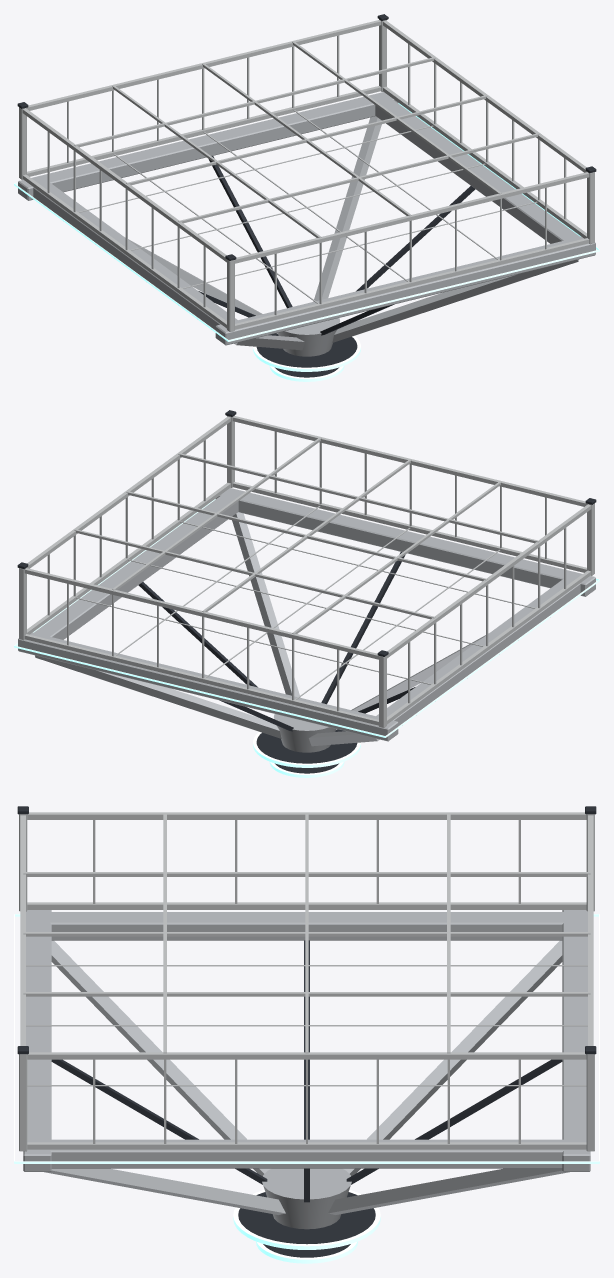
File: tf-skybox.glb
3 renders of one model, top to bottom at view 1: azimuth 30°, elevation 25°; view 2: azimuth 150°, elevation 25°; view 3: azimuth 270°, elevation 25°, orthographic. The views are drawn at different scales.
Parts seen in each view (by area): view 1: tf-skybox; view 2: tf-skybox; view 3: tf-skybox.
Part boxes in pixels (box(x1,y1,x2,y2)): tf-skybox: box(14, 14, 599, 381); tf-skybox: box(14, 410, 599, 777); tf-skybox: box(14, 806, 599, 1263).
Size of the model in its own units: 41.3 by 25.6 by 41.3.
